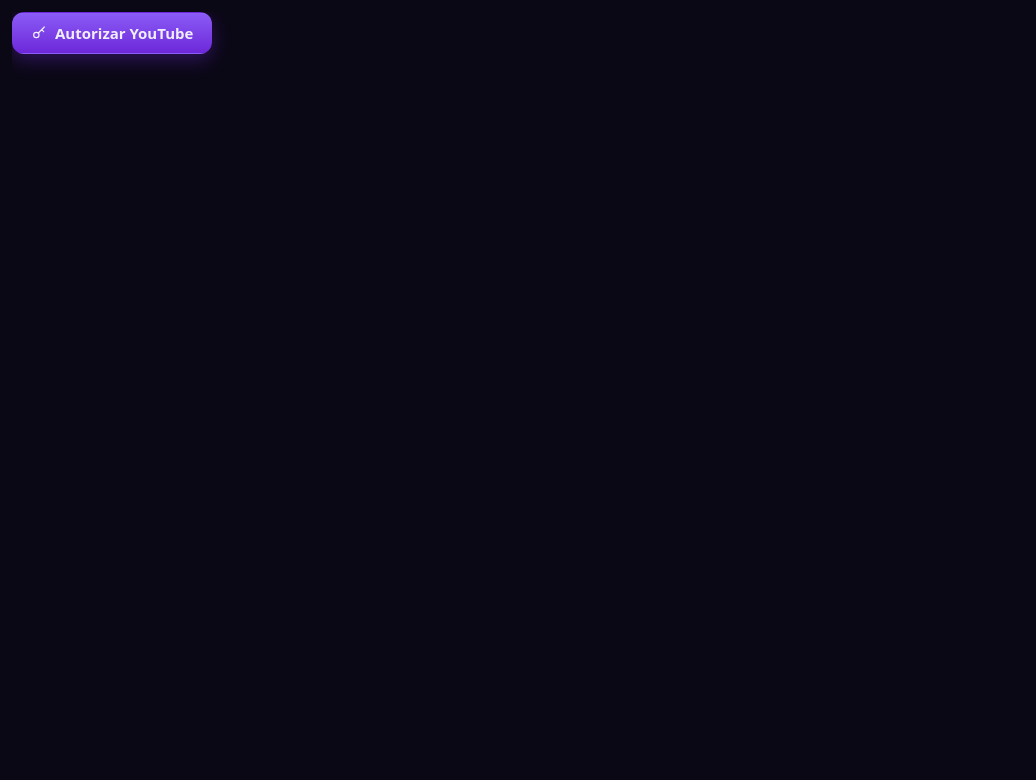
it: autorizar › si Google vuelve con access_denied, enseña el arreglo y «Reintentar autorización»
The width and height of the screenshot is (1036, 780).
Later steps or results of the test are not shown.
Click the button "Autorizar YouTube".
click(112, 33)  # box x1=12 y1=12 x2=212 y2=54
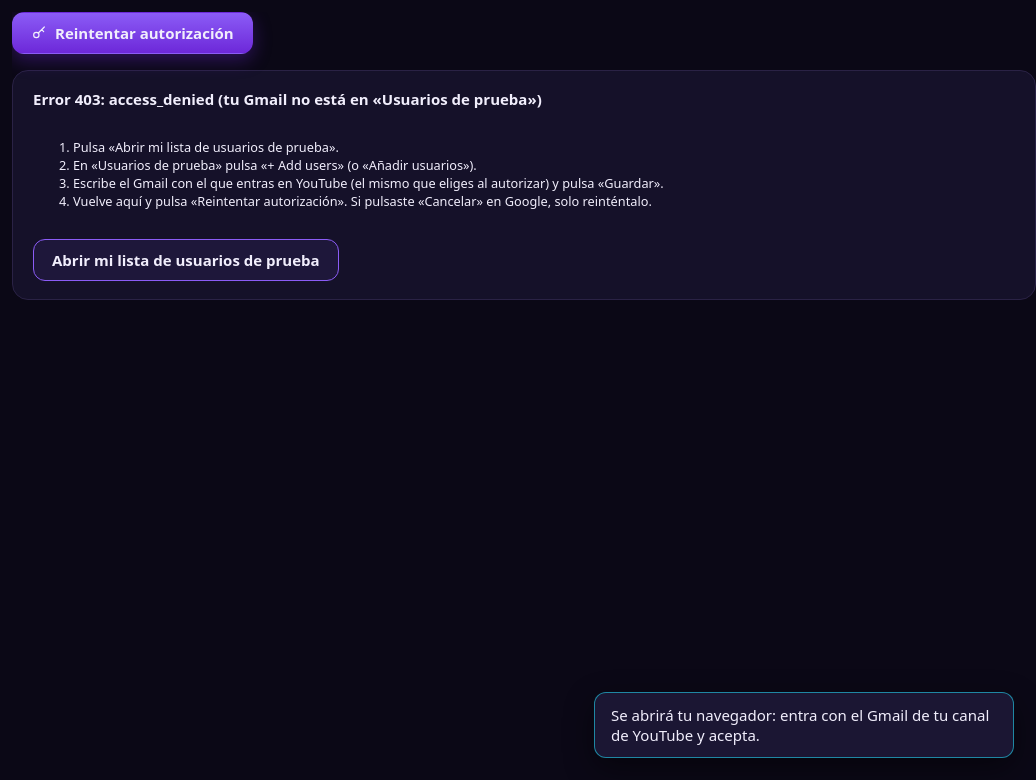
Result: the element with test id "fix-access_denied" is shown at x1=12 y1=70 x2=1035 y2=300
